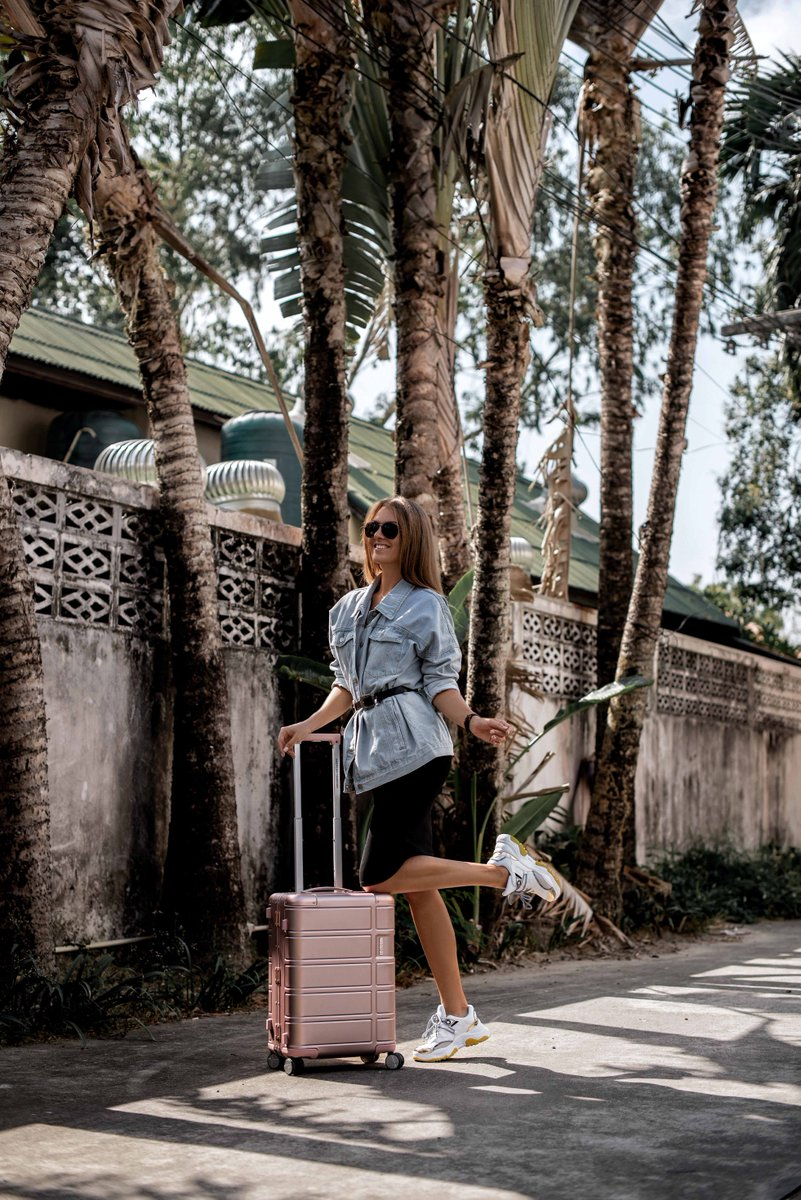luggage: (261, 809, 401, 1087)
